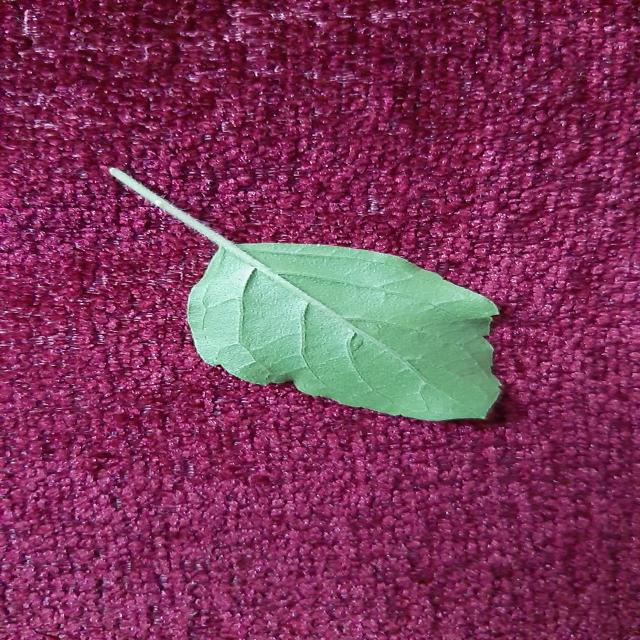tulsi: (187, 244, 501, 420)
